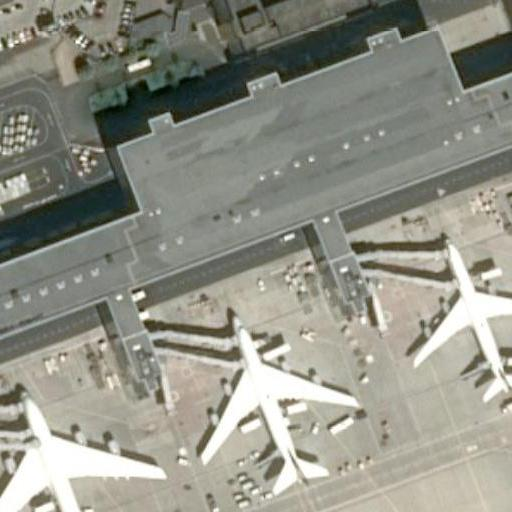Aircraft: (184, 297, 366, 504), (0, 372, 153, 512), (406, 223, 512, 413)
